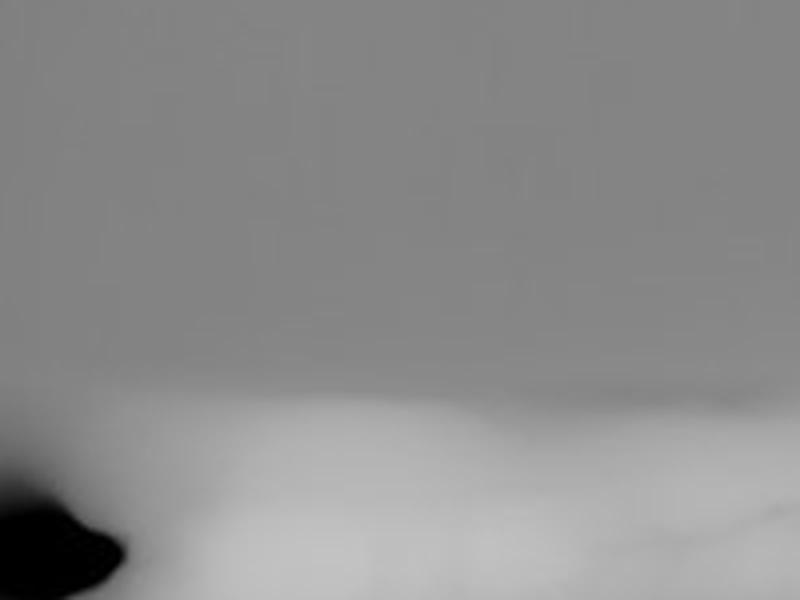defect: (2, 477, 125, 599)
